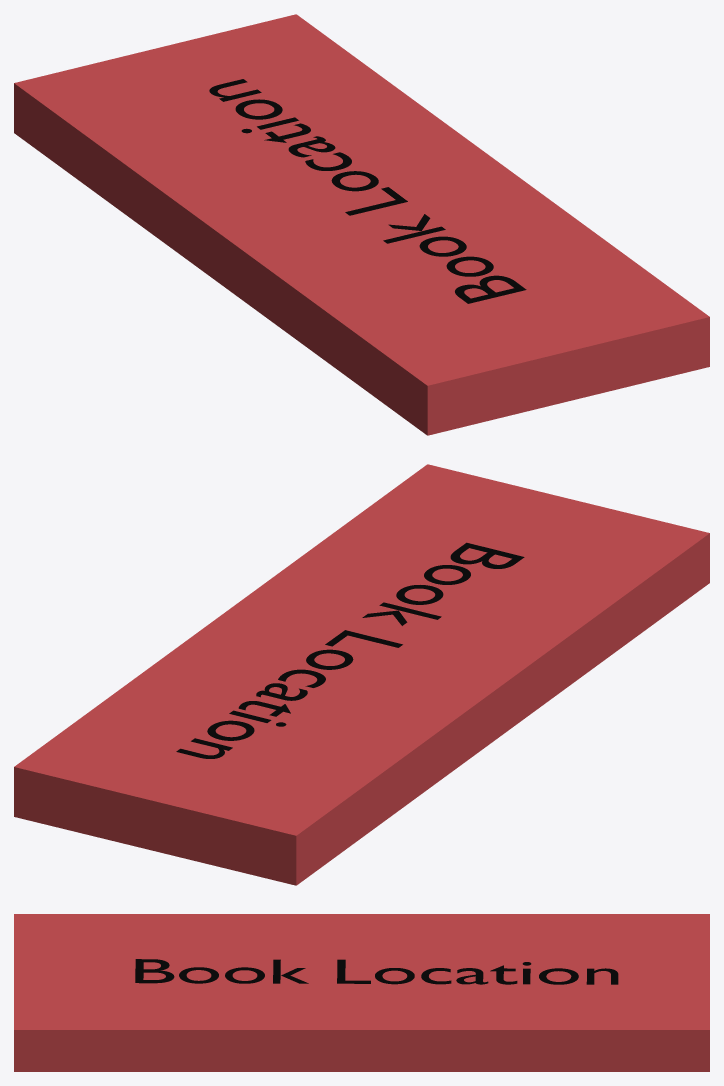
Rendered from book location.glb.
3 views of the same model, one above another, from view 1: azimuth 30°, elevation 25°; view 2: azimuth 150°, elevation 25°; view 3: azimuth 270°, elevation 25° (orthographic). The views are drawn at different scales.
Parts seen in each view (by area): view 1: Cube, sdfsdf; view 2: Cube, sdfsdf; view 3: Cube, sdfsdf.
Boxes of the visible parts, box(x1,y1,x2,y2) form: Cube: box(14, 14, 709, 435); sdfsdf: box(209, 79, 526, 303); Cube: box(14, 464, 709, 885); sdfsdf: box(176, 542, 524, 758); Cube: box(14, 914, 709, 1071); sdfsdf: box(135, 959, 618, 984).
Size of the model in its own units: 3.29 by 0.5723 by 8.36.
